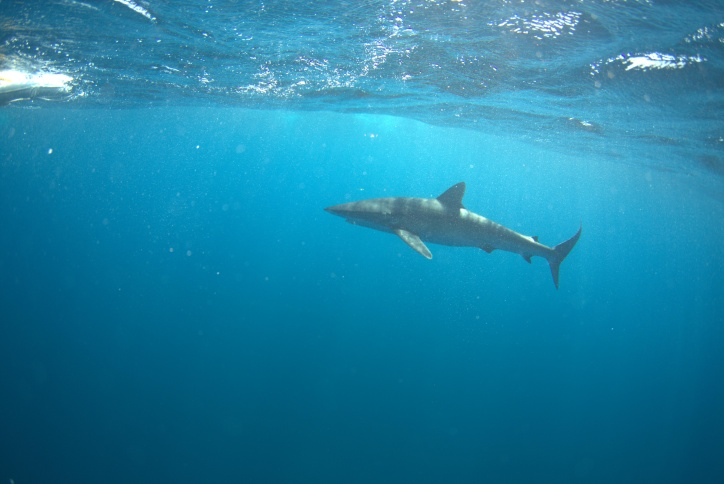Sedoso: (304, 172, 596, 295)
